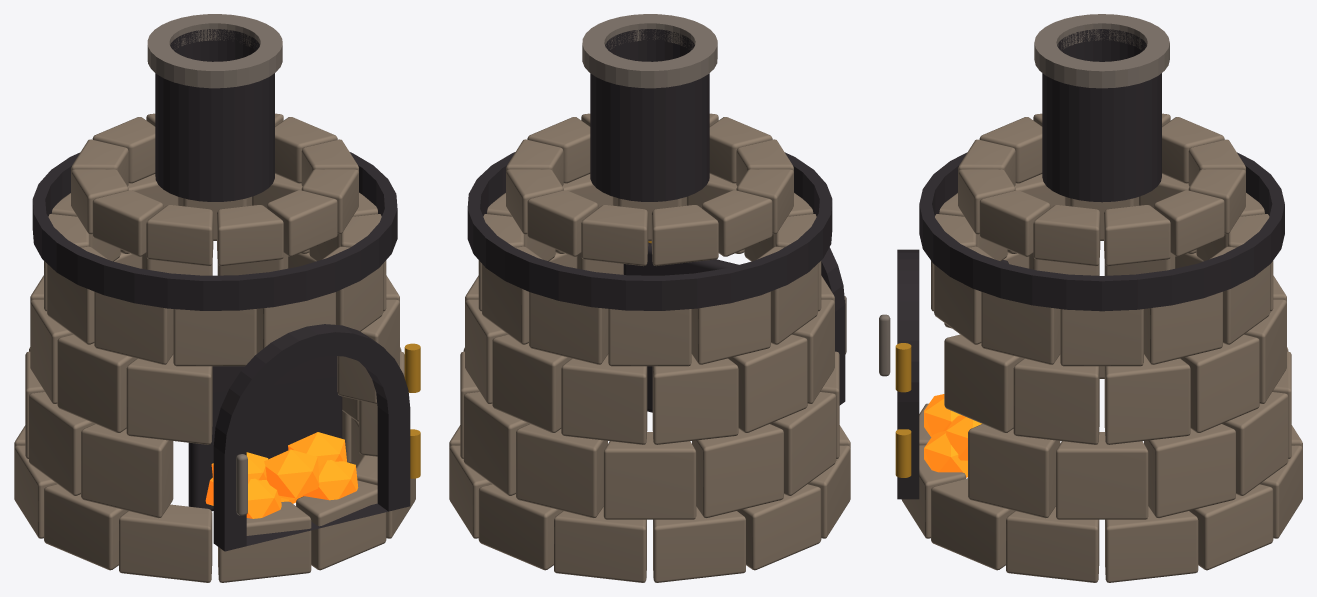
File: station-furnace.glb
3 renders of one model, left to right at view 1: azimuth 30°, elevation 25°; view 2: azimuth 150°, elevation 25°; view 3: azimuth 270°, elevation 25°, orthographic.
Parts seen in each view (by area): view 1: furnace surfaces; view 2: furnace surfaces; view 3: furnace surfaces.
Part boxes in pixels (x1,y1,x2,y2): furnace surfaces: (14, 14, 420, 582); furnace surfaces: (449, 14, 850, 582); furnace surfaces: (879, 14, 1302, 582).
Size of the model in its own units: 1.27 by 1.6 by 1.34.
